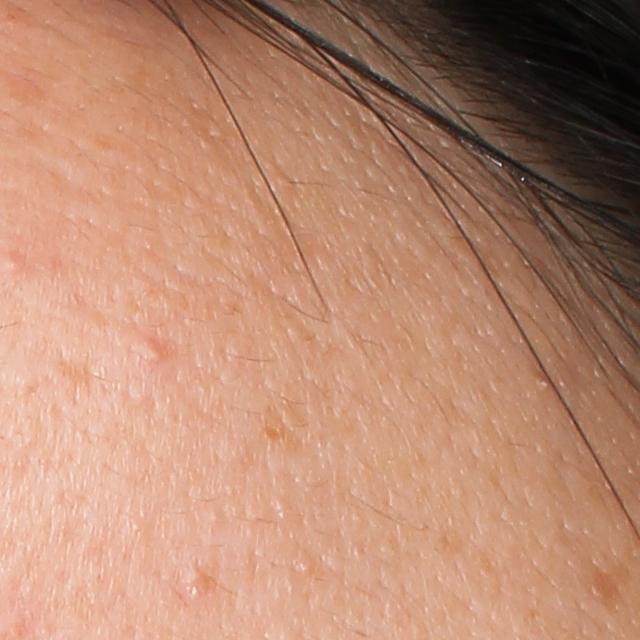comedo: (181, 563, 214, 598), (131, 339, 163, 365), (294, 553, 316, 580), (3, 253, 22, 277)
